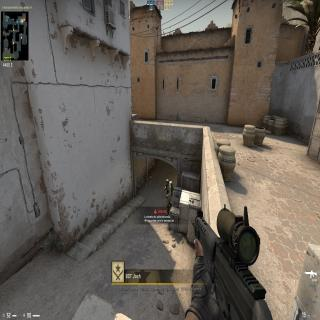CT-Head: (166, 178, 169, 186)
